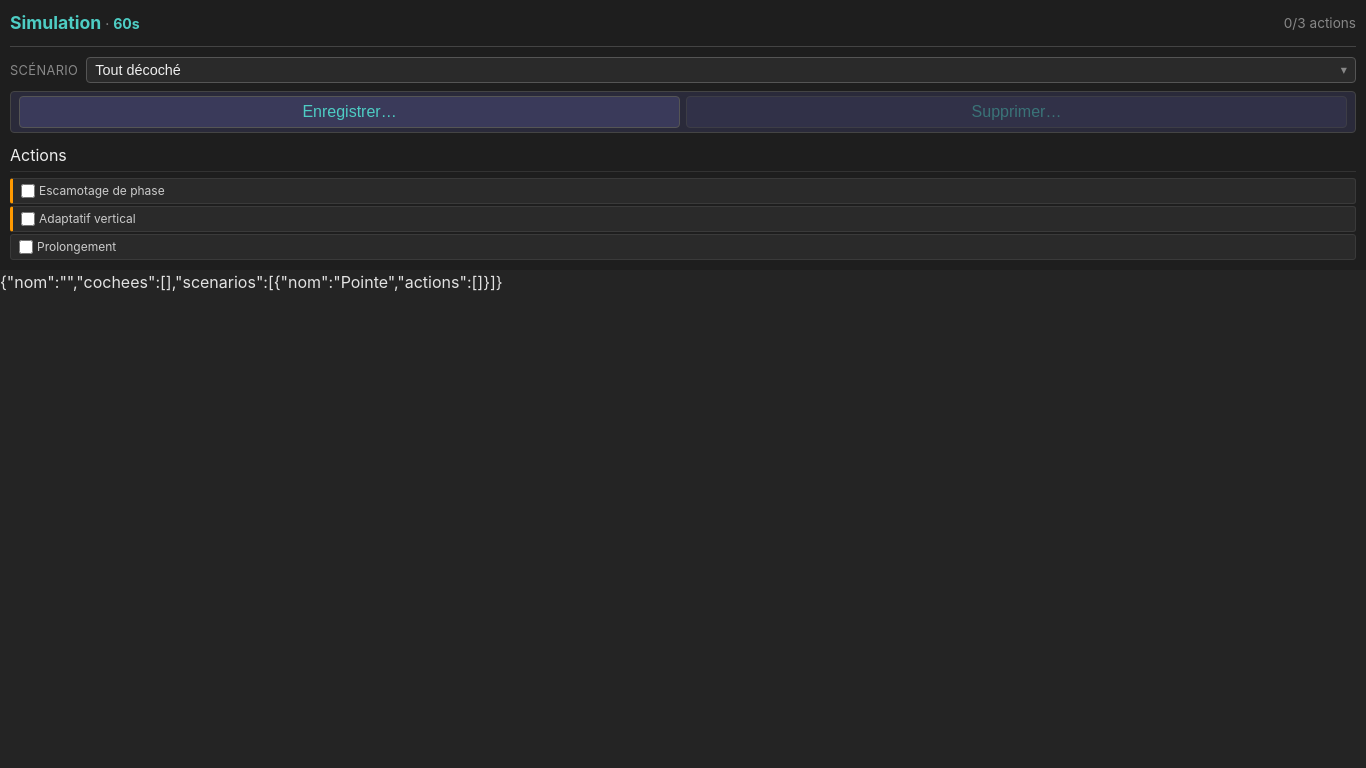
Scénarios de simulation — la liste › un titre déjà pris est refusé
Click the button "Tout décoché ▾": (138, 70) [86,57,1356,83]
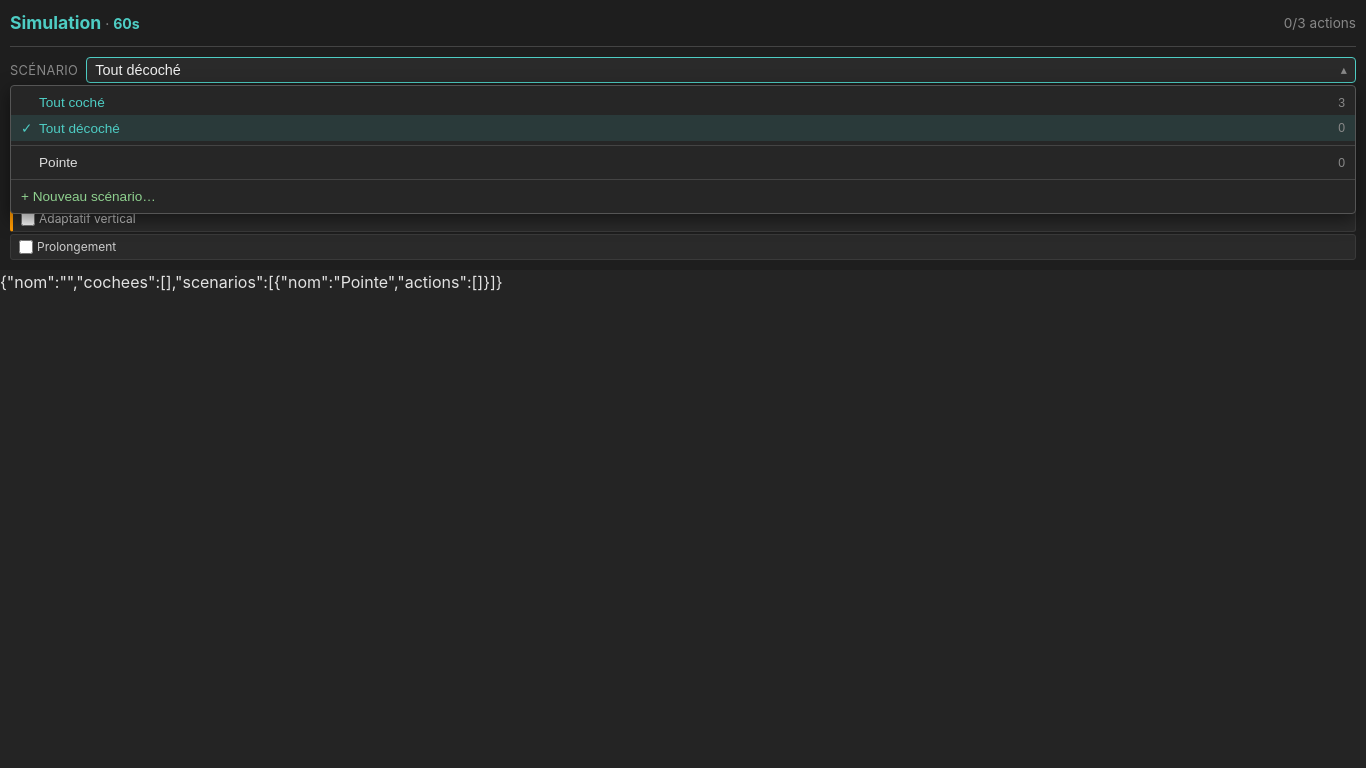
Click the button "+ Nouveau scénario…": (88, 197) [11,184,1355,209]
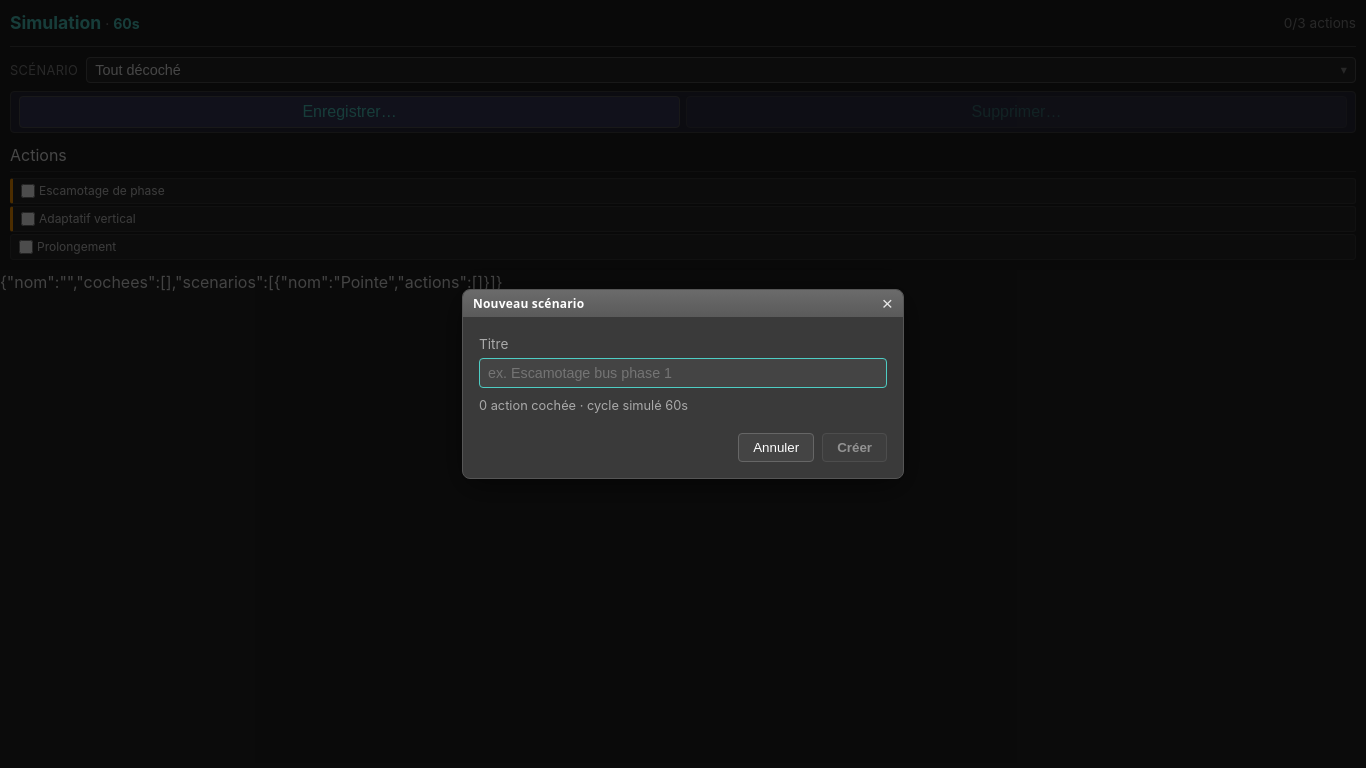
In the field with placeholder "ex. Escamotage bus phase 1": (683, 373) [479,358,887,388], type "pointe"
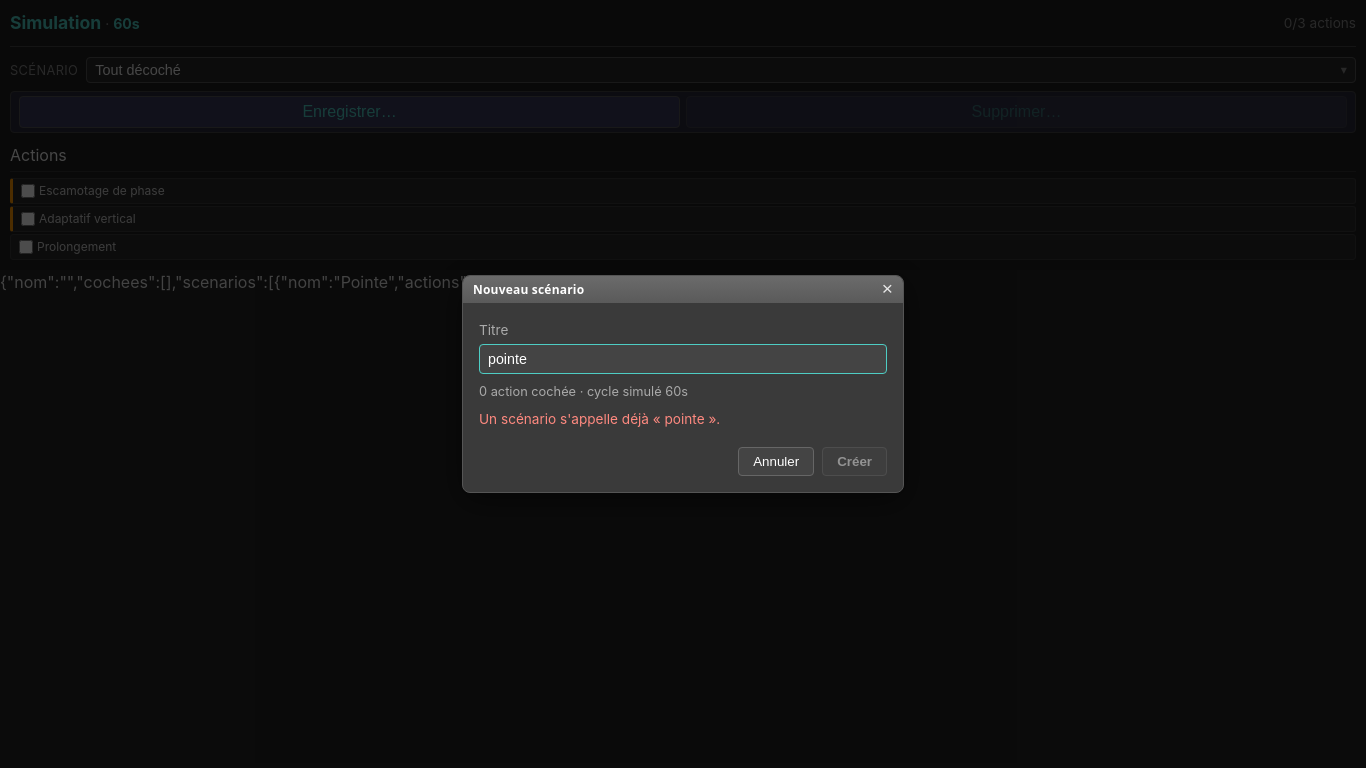
Result: the button "Créer" is disabled at [822,448,887,476]
Result: the text "Un scénario s'appelle déjà « pointe »." is shown at [479,411,720,427]
